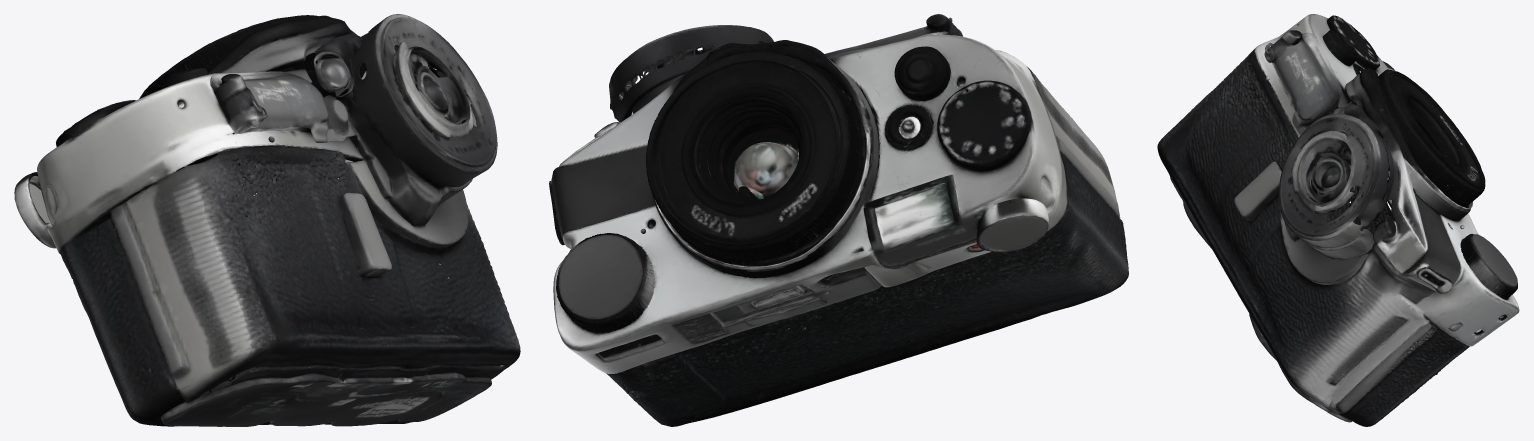
Rendered from pixal3d.glb.
3 renders of one model, left to right at view 1: azimuth 30°, elevation 25°; view 2: azimuth 150°, elevation 25°; view 3: azimuth 270°, elevation 25°, orthographic. The views are drawn at different scales.
Visible parts, largest first — view 1: world; view 2: world; view 3: world.
Boxes of the visible parts, box(x1,y1,x2,y2) form: world: box(14, 14, 520, 426); world: box(549, 14, 1128, 426); world: box(1157, 14, 1519, 426).
Bounding box in the file's own units: 0.8472 × 0.7488 × 0.78.
1 material, 1 textured.
